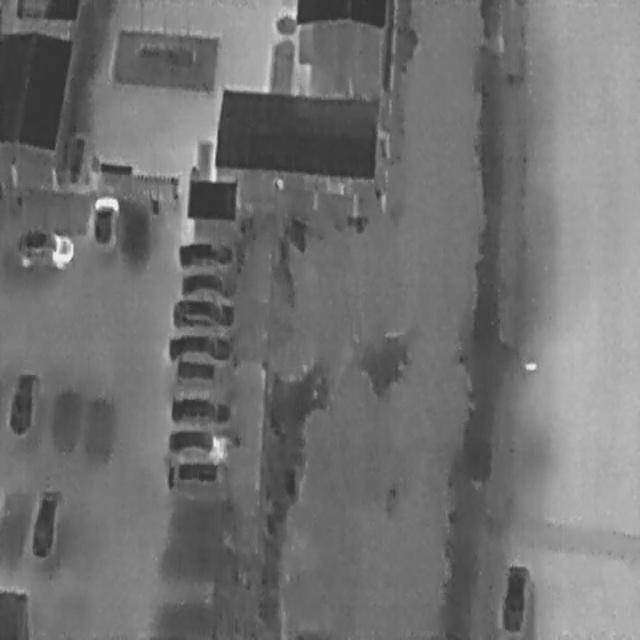Car: (498, 561, 531, 635), (17, 229, 73, 270), (29, 488, 58, 560), (6, 369, 37, 435), (167, 428, 228, 460), (171, 298, 234, 328), (89, 191, 119, 250), (170, 393, 230, 422), (167, 461, 224, 491), (167, 334, 229, 361), (178, 239, 232, 266), (181, 272, 233, 298), (176, 359, 223, 385)
